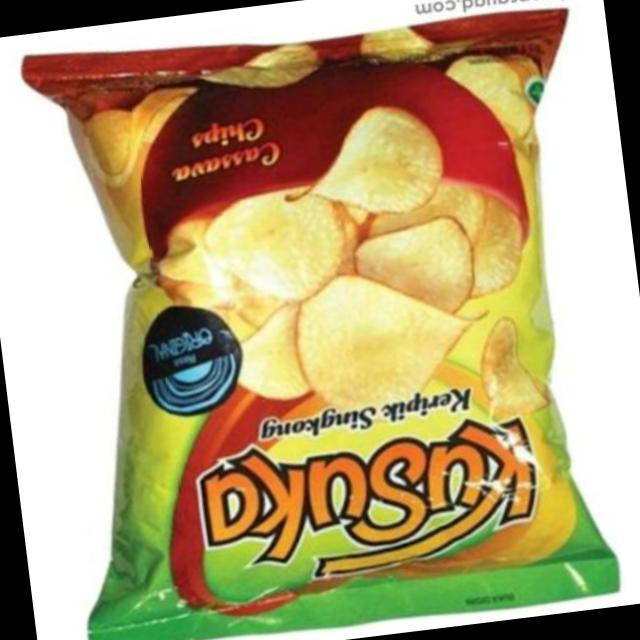KemasanPlastik: (15, 0, 638, 640)
